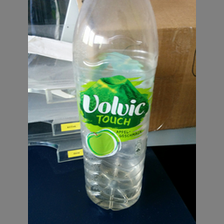water: (73, 1, 159, 210)
